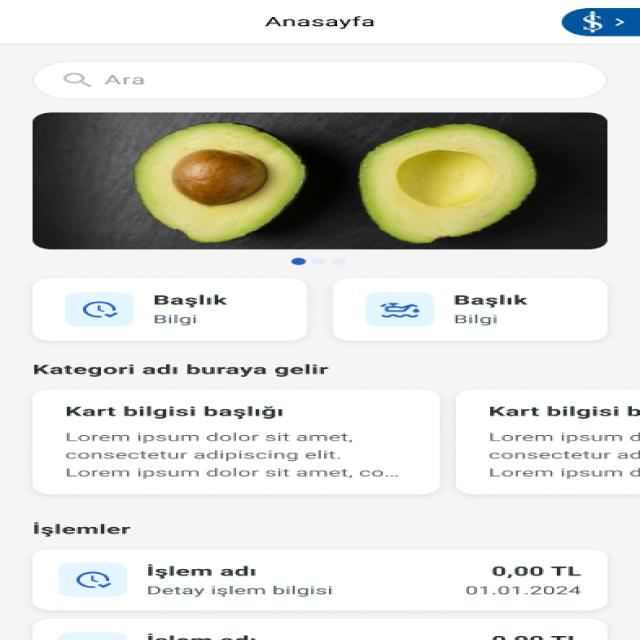QLabel: (25, 363, 335, 378), (61, 466, 400, 479), (63, 449, 342, 462), (60, 431, 356, 443), (57, 404, 290, 419), (146, 584, 338, 597), (482, 404, 640, 418), (485, 467, 640, 479), (260, 15, 376, 30), (484, 431, 640, 442), (142, 563, 256, 578), (485, 450, 640, 460), (30, 522, 134, 536), (462, 585, 583, 596), (487, 565, 582, 577), (151, 294, 230, 307), (452, 294, 530, 307), (142, 632, 259, 640), (489, 633, 579, 640), (453, 313, 499, 326), (153, 314, 199, 326)
VAppBar: (0, 0, 640, 44)
VCard: (32, 389, 439, 495), (29, 548, 610, 612), (457, 389, 640, 495), (30, 278, 308, 344), (331, 278, 608, 343), (31, 618, 606, 640)
VCarousel: (32, 110, 608, 268)
VImg: (58, 562, 128, 598), (559, 7, 640, 38), (364, 292, 435, 326), (64, 292, 134, 326), (59, 632, 126, 640)
VTextField: (32, 60, 607, 99)
